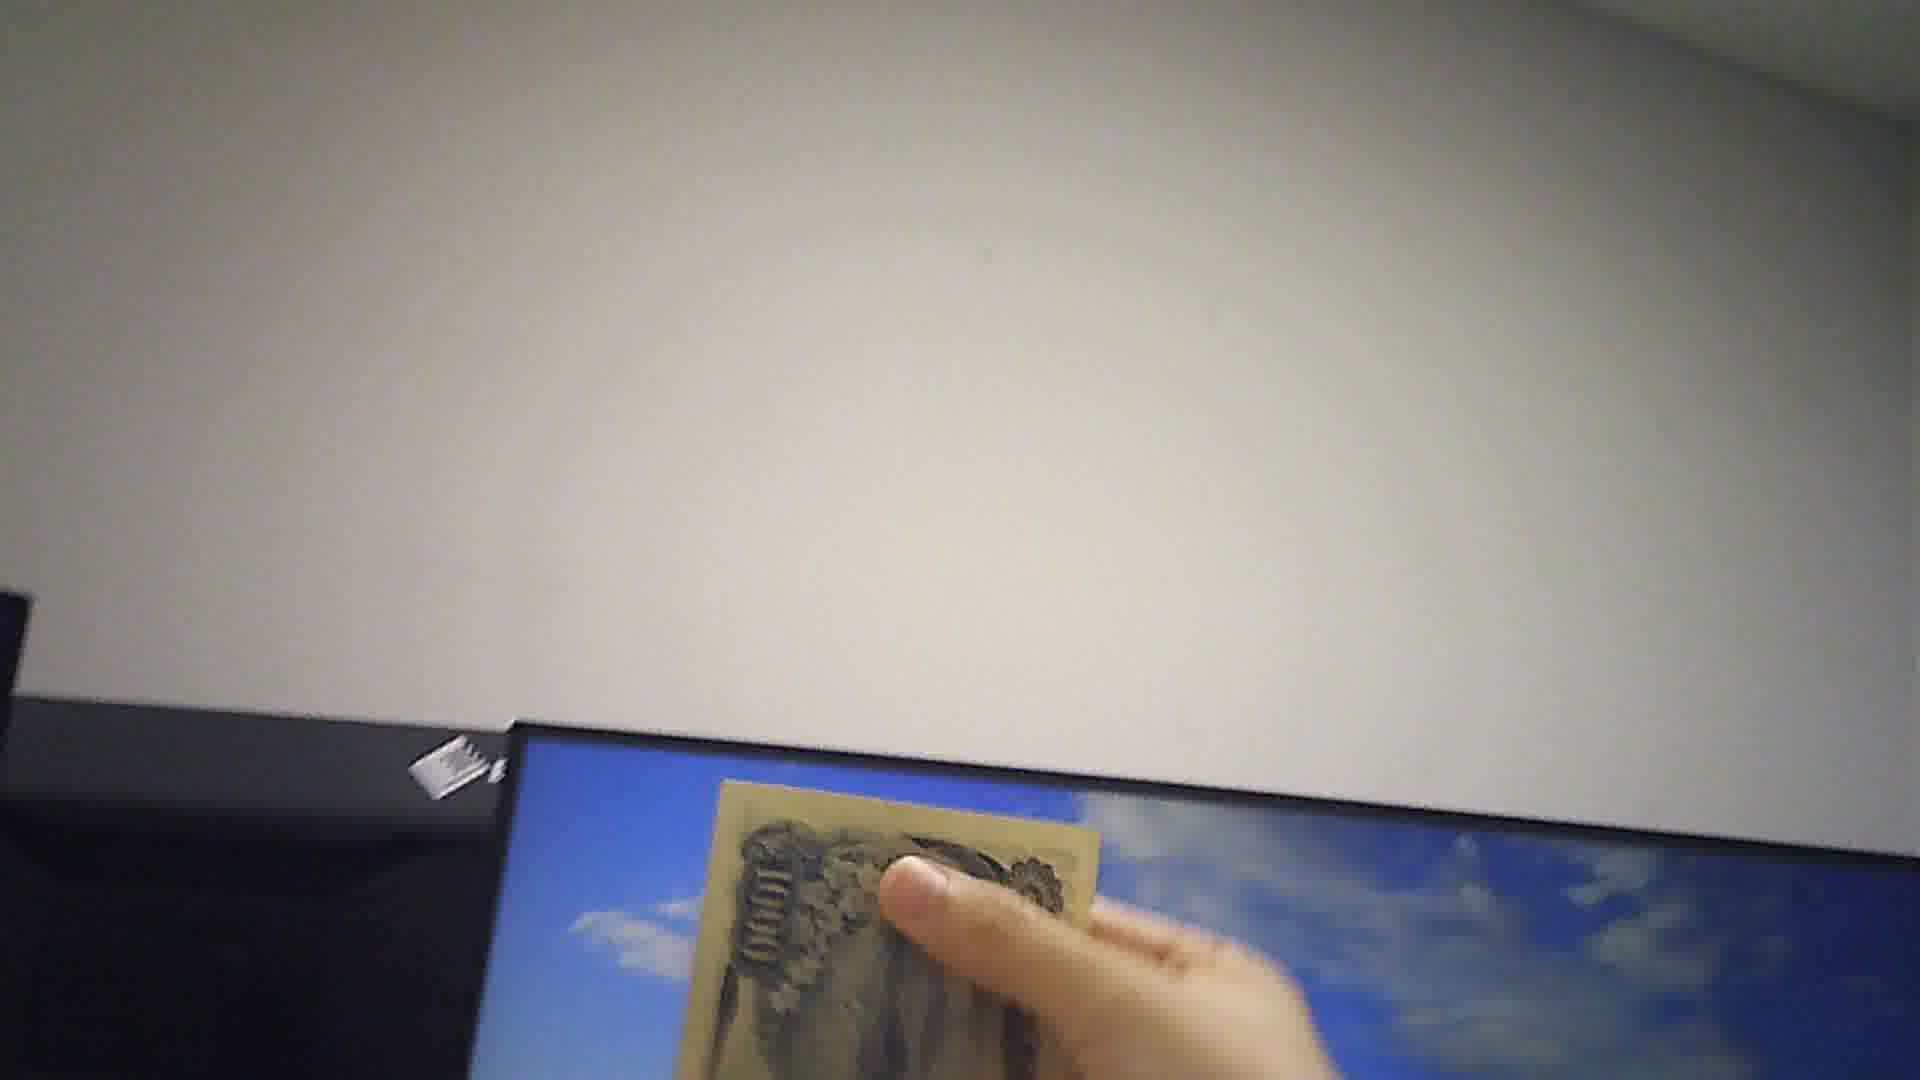1,000 Yen: (680, 760, 1101, 1077)
